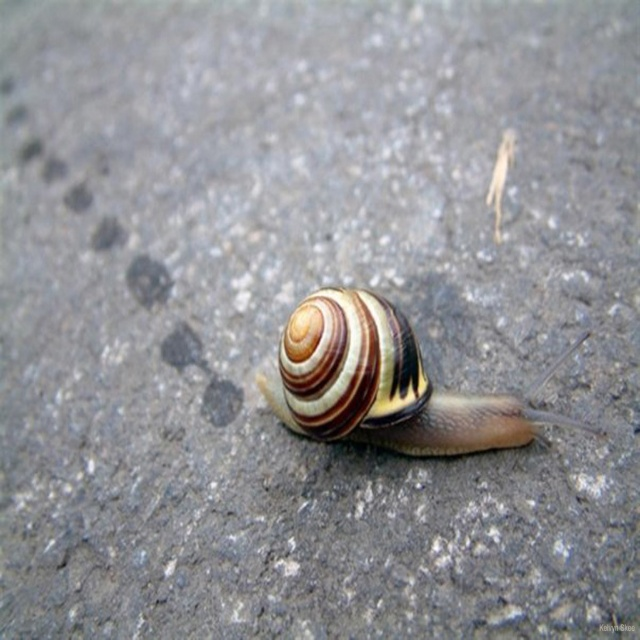Snail: (253, 284, 607, 456)
